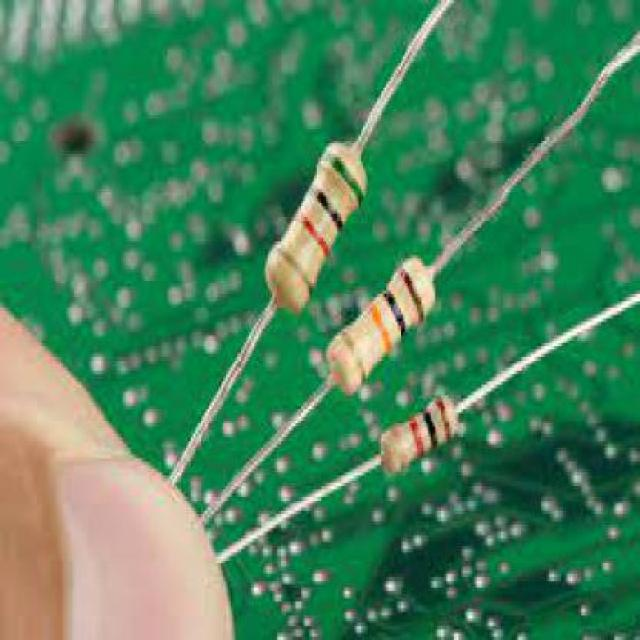Capacitor: (265, 102, 382, 314), (322, 258, 435, 397), (380, 398, 462, 474)
